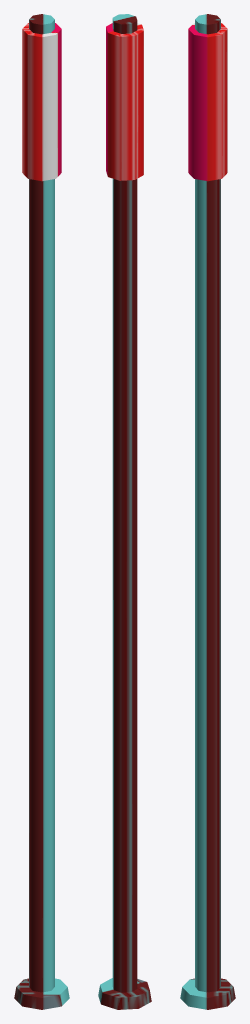
The model's file is SM_StreetLight_v04.FBX.
3 renders of one model, left to right at view 1: azimuth 90°, elevation 25°; view 2: azimuth 210°, elevation 25°; view 3: azimuth 270°, elevation 25°, orthographic.
Visible parts, largest first — view 1: SM_StreetLight_v04; view 2: SM_StreetLight_v04; view 3: SM_StreetLight_v04.
Boxes of the visible parts, box(x1,y1,x2,y2) form: SM_StreetLight_v04: box(14, 14, 69, 1009); SM_StreetLight_v04: box(98, 14, 151, 1009); SM_StreetLight_v04: box(180, 14, 235, 1009).
Bounding box in the file's own units: 0.3446 × 6.71 × 0.3446.
